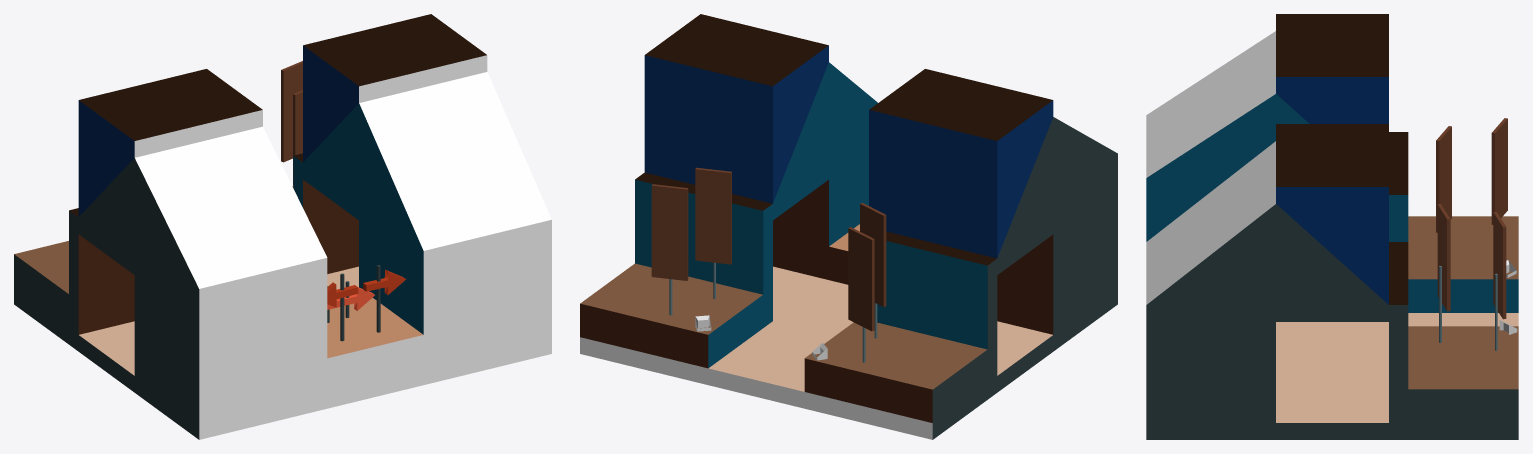
Rendered from turn01_ground.fbx.
3 views of the same model, side by side, from view 1: azimuth 30°, elevation 25°; view 2: azimuth 150°, elevation 25°; view 3: azimuth 270°, elevation 25° (orthographic).
Parts seen in each view (by area): view 1: ground.Turn.LR, Cube.003, Cube.002, Cube.006; view 2: ground.Turn.LR, Cube.003, Cube.002, Cube, Cube.004; view 3: ground.Turn.LR, Cube, Cube.004, Cube.003, Cube.002.
Part boxes in pixels (left/top/right/bottom): ground.Turn.LR: left=14, top=14, right=551, bottom=439; Cube.003: left=281, top=61, right=302, bottom=162; Cube.002: left=293, top=90, right=302, bottom=185; Cube.006: left=363, top=269, right=405, bottom=294; ground.Turn.LR: left=580, top=14, right=1117, bottom=439; Cube.003: left=651, top=184, right=688, bottom=280; Cube.002: left=695, top=167, right=731, bottom=264; Cube: left=848, top=227, right=874, bottom=331; Cube.004: left=860, top=203, right=886, bottom=307; ground.Turn.LR: left=1146, top=14, right=1518, bottom=439; Cube: left=1491, top=118, right=1507, bottom=224; Cube.004: left=1436, top=126, right=1451, bottom=232; Cube.003: left=1493, top=211, right=1506, bottom=319; Cube.002: left=1437, top=204, right=1450, bottom=311.
Size of the model in its own units: 22 by 20 by 15.
